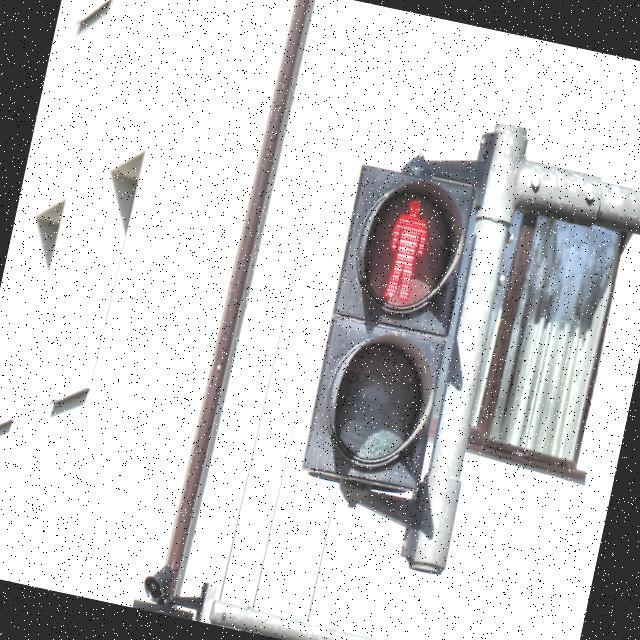red_light: (374, 190, 438, 310)
